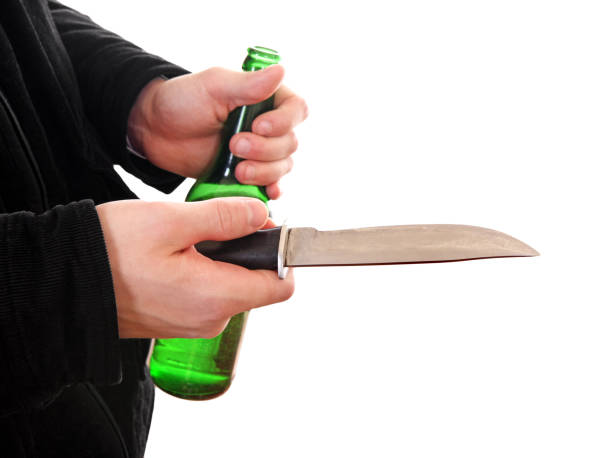alcohol: (142, 44, 289, 402)
knife: (192, 221, 554, 282)
